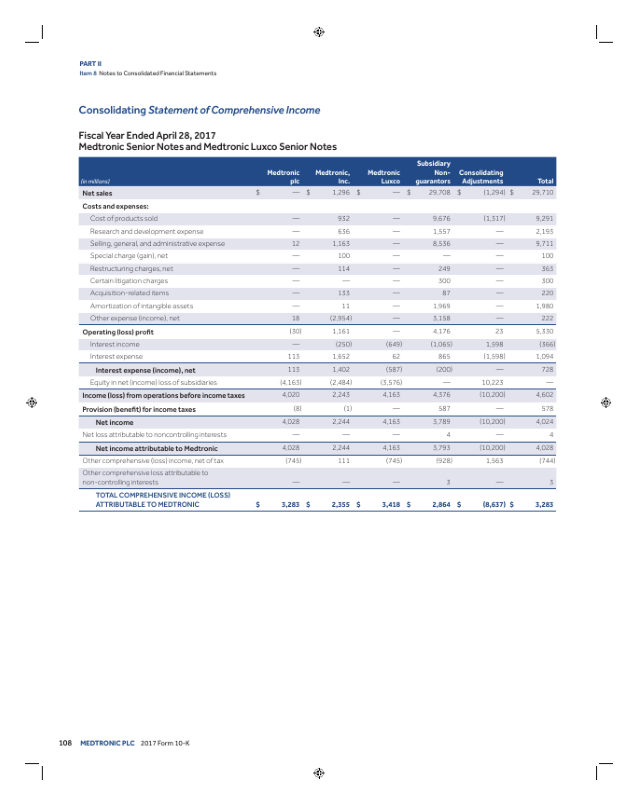table: (75, 154, 559, 514)
